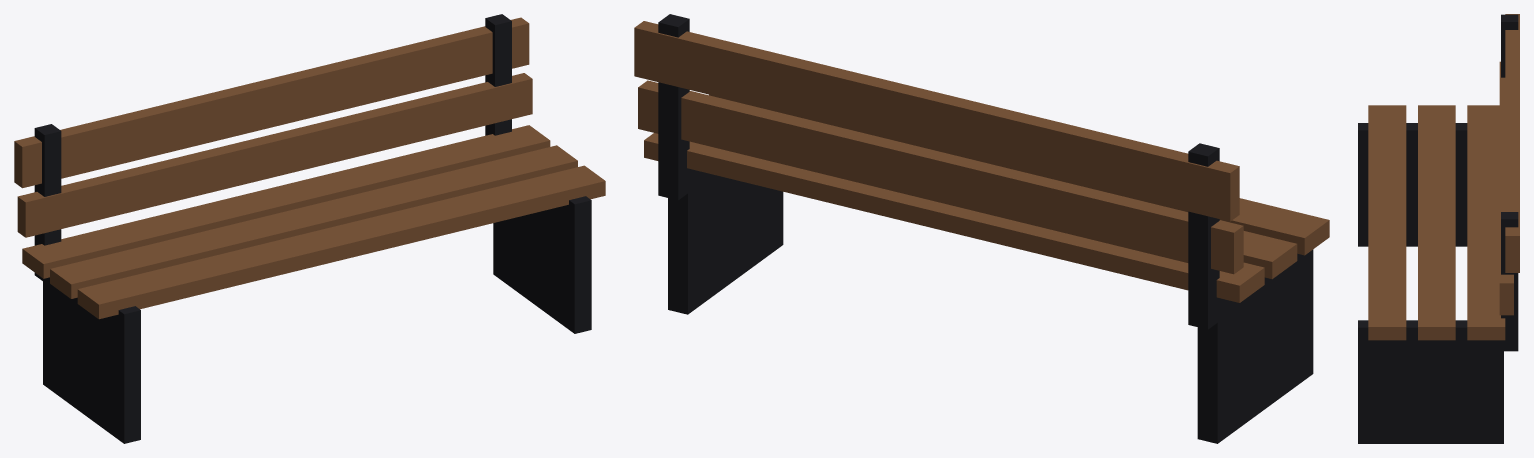
File: bench.glb
3 views of the same model, side by side, from view 1: azimuth 30°, elevation 25°; view 2: azimuth 150°, elevation 25°; view 3: azimuth 270°, elevation 25° (orthographic). The views are drawn at different scales.
Visible parts, largest first — view 1: bench_Body; view 2: bench_Body; view 3: bench_Body.
Boxes of the visible parts, x1,y1,x2,y2 form: bench_Body: (14, 14, 605, 443); bench_Body: (634, 14, 1329, 443); bench_Body: (1358, 14, 1519, 443).
Bounding box in the file's own units: 1.8 × 0.85 × 0.555.
